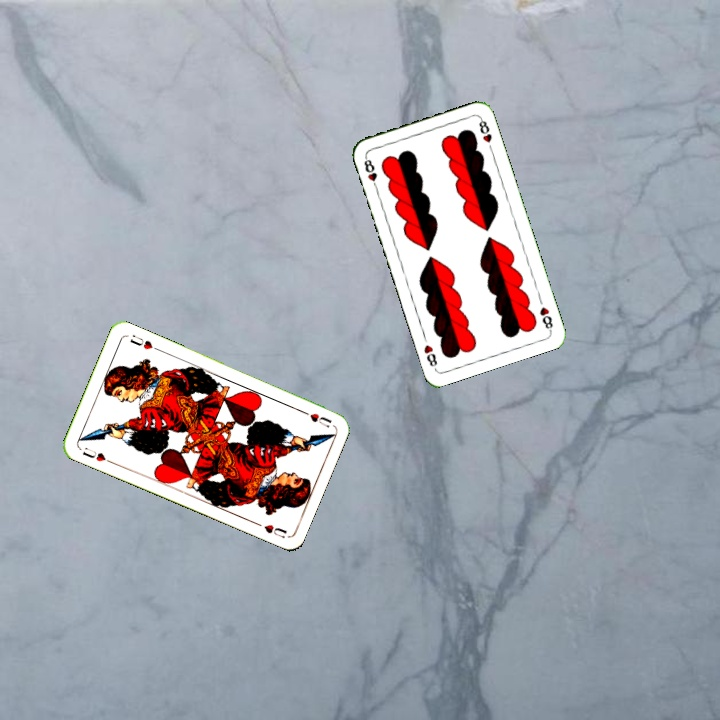H8: (360, 153, 380, 192), (536, 303, 555, 334)
HU: (297, 406, 334, 430), (78, 443, 115, 466)
